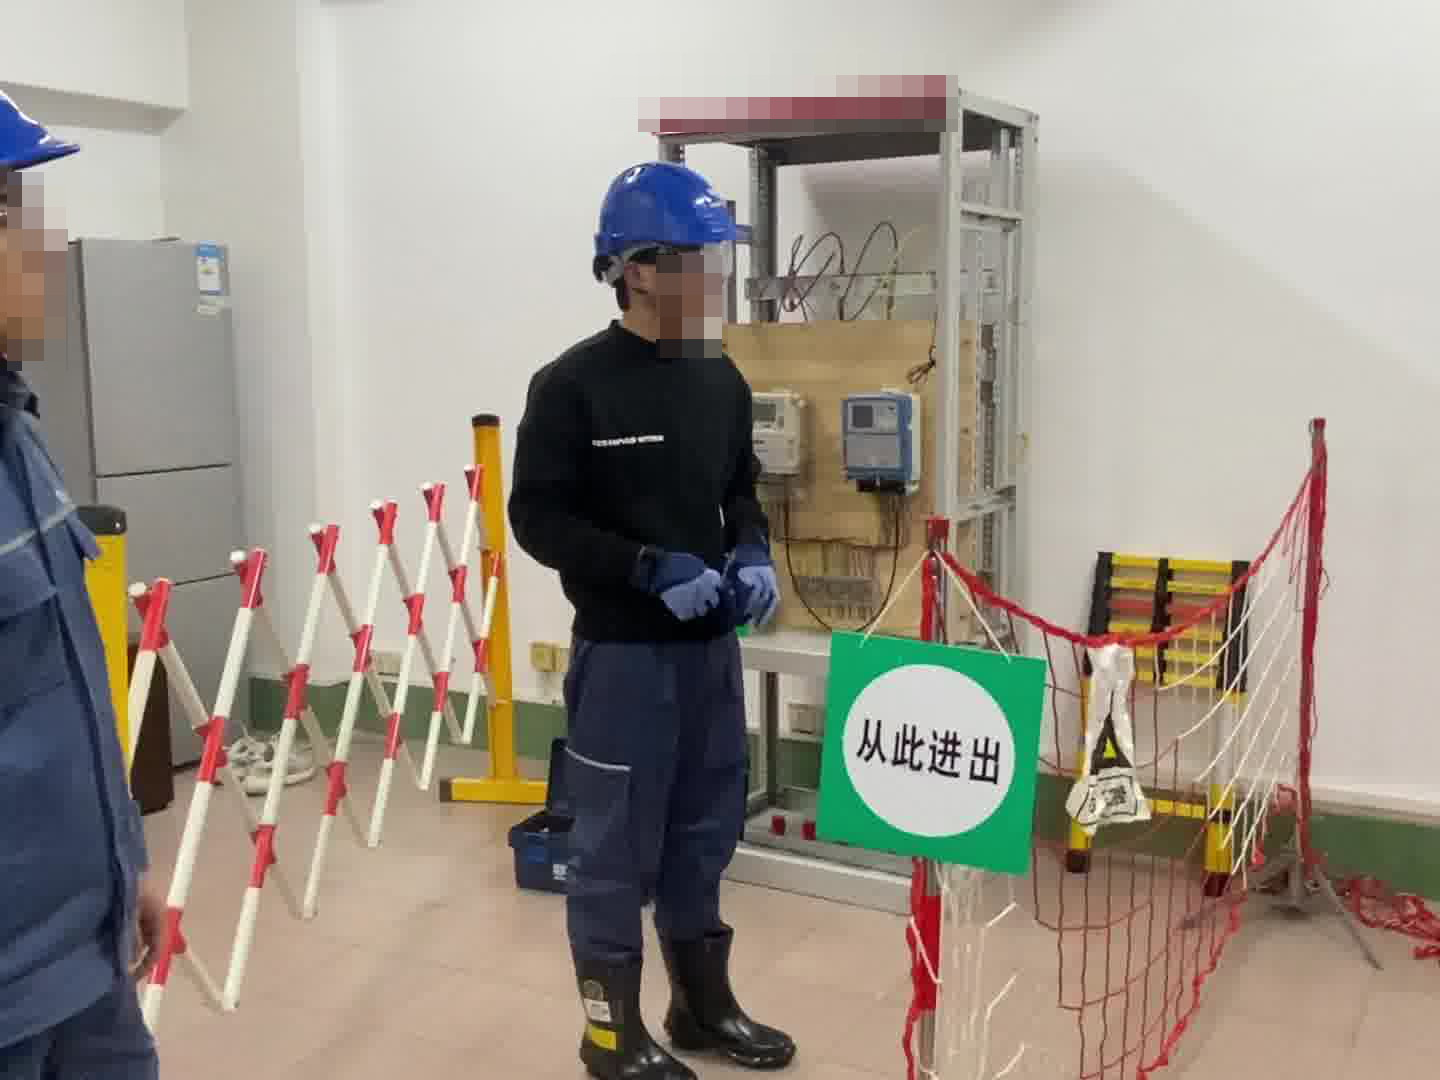downsuit: (550, 644, 747, 920)
glove: (640, 545, 723, 617), (733, 547, 781, 622)
halt: (586, 160, 752, 343)
hand: (131, 880, 172, 972)
inear: (612, 245, 683, 317)
intosign: (822, 630, 1034, 860)
person: (502, 153, 798, 1070), (1, 48, 215, 1080)
shoe: (663, 931, 793, 1061), (571, 946, 672, 1070)
upcloth: (509, 325, 788, 647)
upsuit: (1, 442, 156, 1028)
